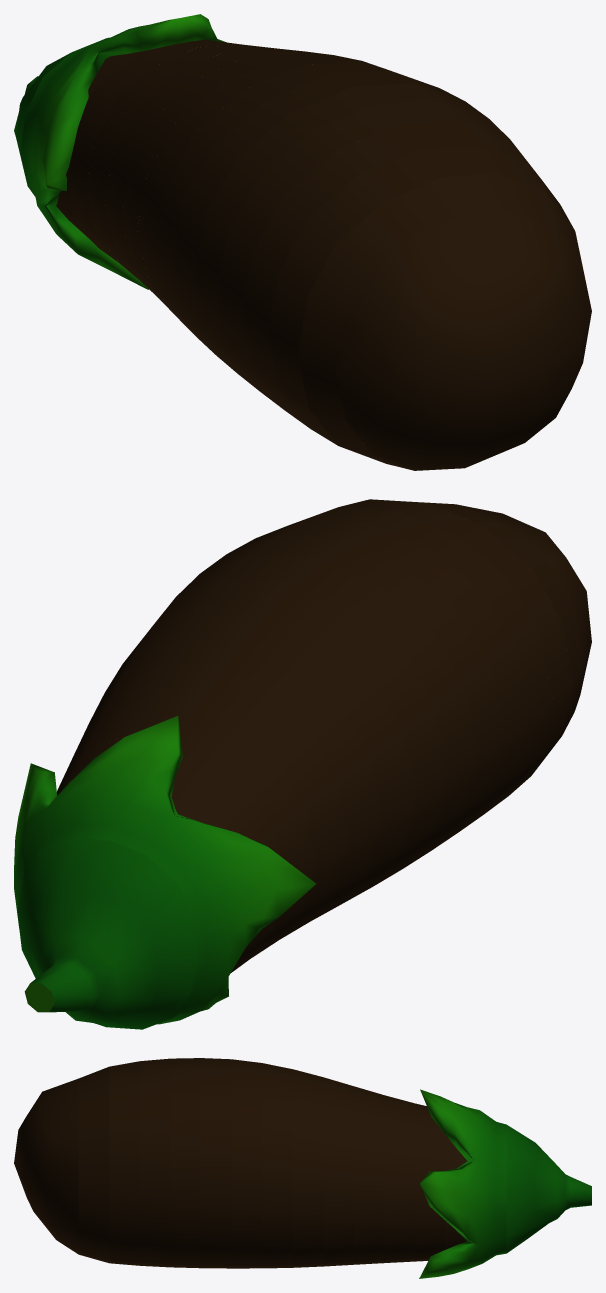
The model's file is brenjal.fbx.
The picture shows the model from 3 angles, top to bottom: view 1: azimuth 30°, elevation 25°; view 2: azimuth 150°, elevation 25°; view 3: azimuth 270°, elevation 25°; orthographic projection. The views are drawn at different scales.
Parts seen in each view (by area): view 1: Eggplant; view 2: Eggplant; view 3: Eggplant.
Part boxes in pixels (x1,y1,x2,y2): Eggplant: [14, 14, 591, 470]; Eggplant: [14, 499, 591, 1029]; Eggplant: [14, 1058, 591, 1278].
Size of the model in its own units: 415 by 379 by 1058.
